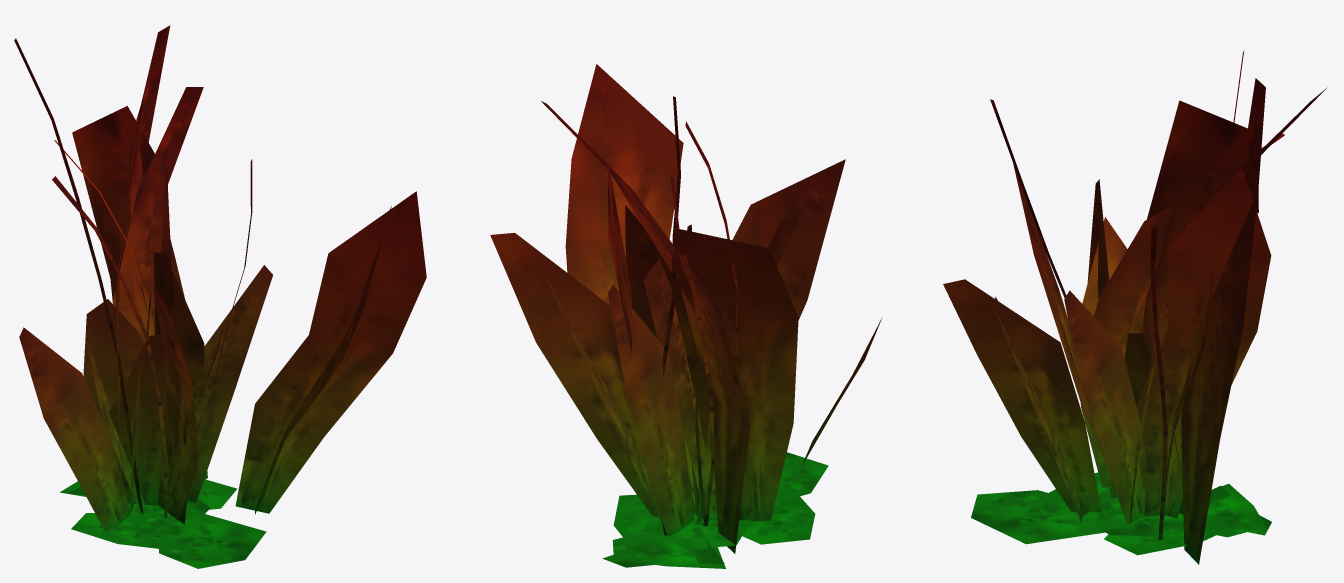
The model's file is Thatching Grass_LOD1_Var13_uddmcgbia.glb.
3 renders of one model, left to right at view 1: azimuth 30°, elevation 25°; view 2: azimuth 150°, elevation 25°; view 3: azimuth 270°, elevation 25°, orthographic. The views are drawn at different scales.
Visible parts, largest first — view 1: _01d2_Var13_LOD1; view 2: _01d2_Var13_LOD1; view 3: _01d2_Var13_LOD1.
Part boxes in pixels (x1,y1,x2,y2): _01d2_Var13_LOD1: [14, 25, 426, 568]; _01d2_Var13_LOD1: [490, 64, 882, 568]; _01d2_Var13_LOD1: [943, 50, 1327, 564].
Size of the model in its own units: 0.1157 by 0.1298 by 0.0958.
Materials: 1 (1 with a texture image).
